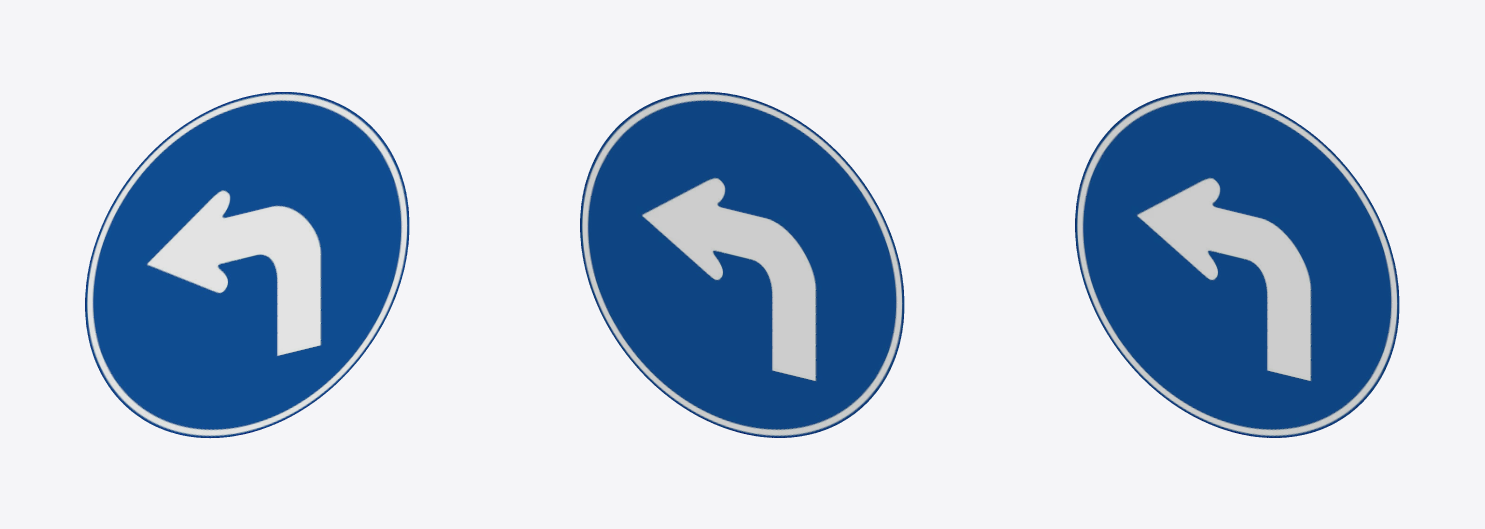
Rendered from left.glb.
The picture shows the model from 3 angles, left to right: view 1: azimuth 30°, elevation 25°; view 2: azimuth 150°, elevation 25°; view 3: azimuth 330°, elevation 25°; orthographic projection.
Size of the model in its own units: 1 by 1 by 0.
Materials: 2 (2 with a texture image).
